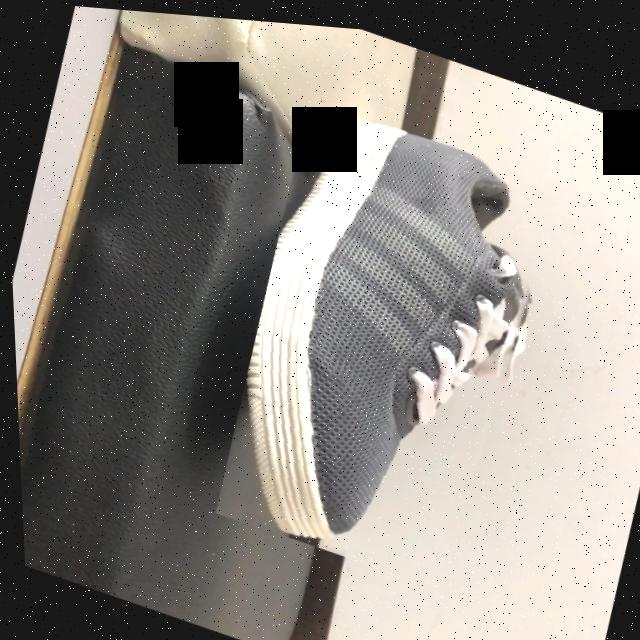shoe: (244, 115, 525, 541)
